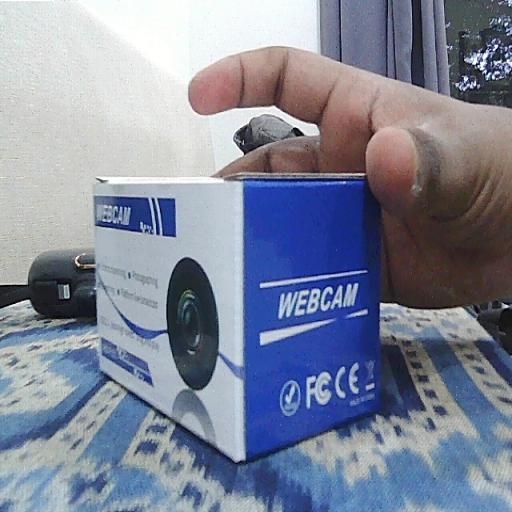webcam_box: (92, 173, 382, 464)
